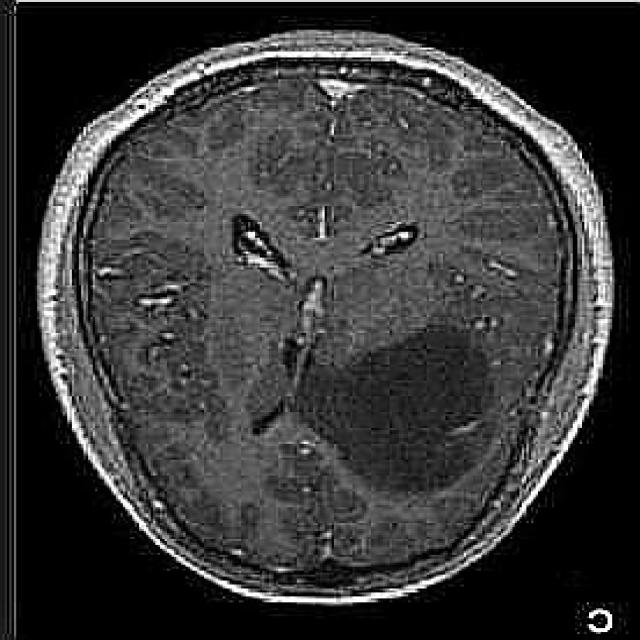Tumor-Cell: (313, 319, 487, 468)
